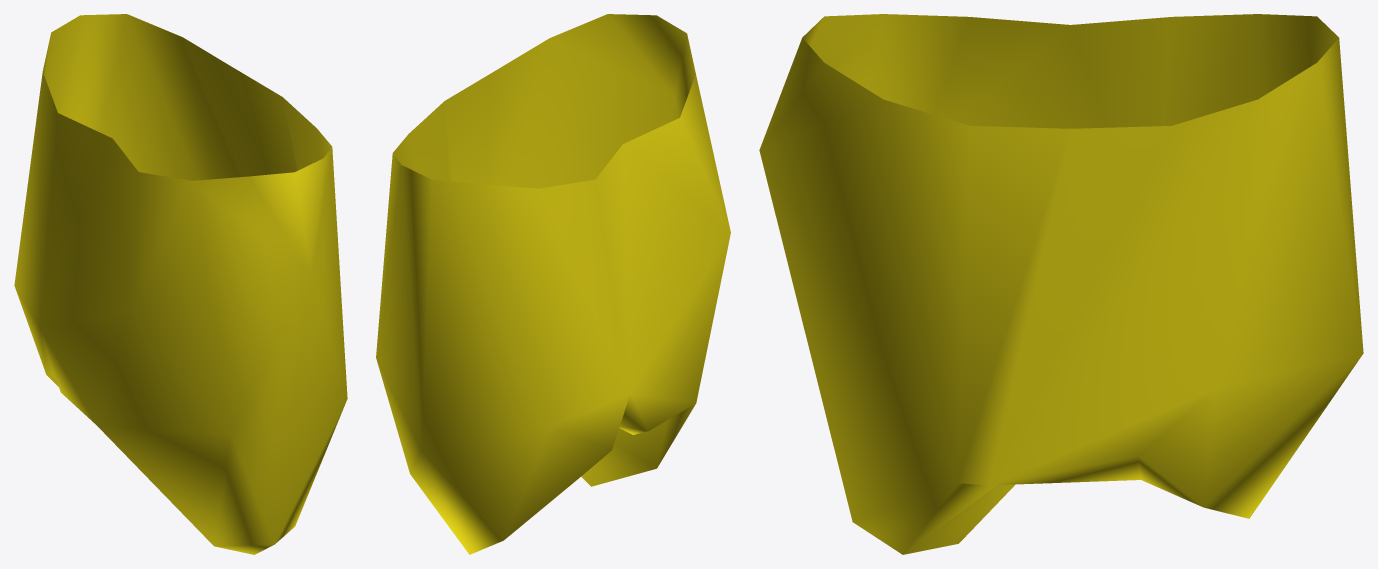
Rendered from D24N_NUC.obj.
The picture shows the model from 3 angles, left to right: view 1: azimuth 30°, elevation 25°; view 2: azimuth 150°, elevation 25°; view 3: azimuth 270°, elevation 25°; orthographic projection. The views are drawn at different scales.
Parts seen in each view (by area): view 1: D24N_NUC; view 2: D24N_NUC; view 3: D24N_NUC.
Part boxes in pixels (box(x1,y1,x2,y2)): D24N_NUC: box(14, 14, 347, 554); D24N_NUC: box(376, 14, 730, 554); D24N_NUC: box(759, 14, 1363, 554).
Size of the model in its own units: 3.4 by 5.68 by 6.03.
